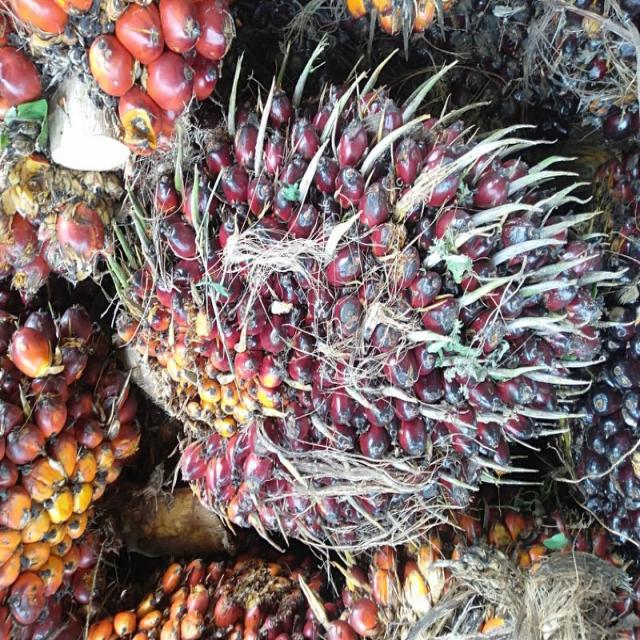fraksi 1: (135, 77, 598, 551)
